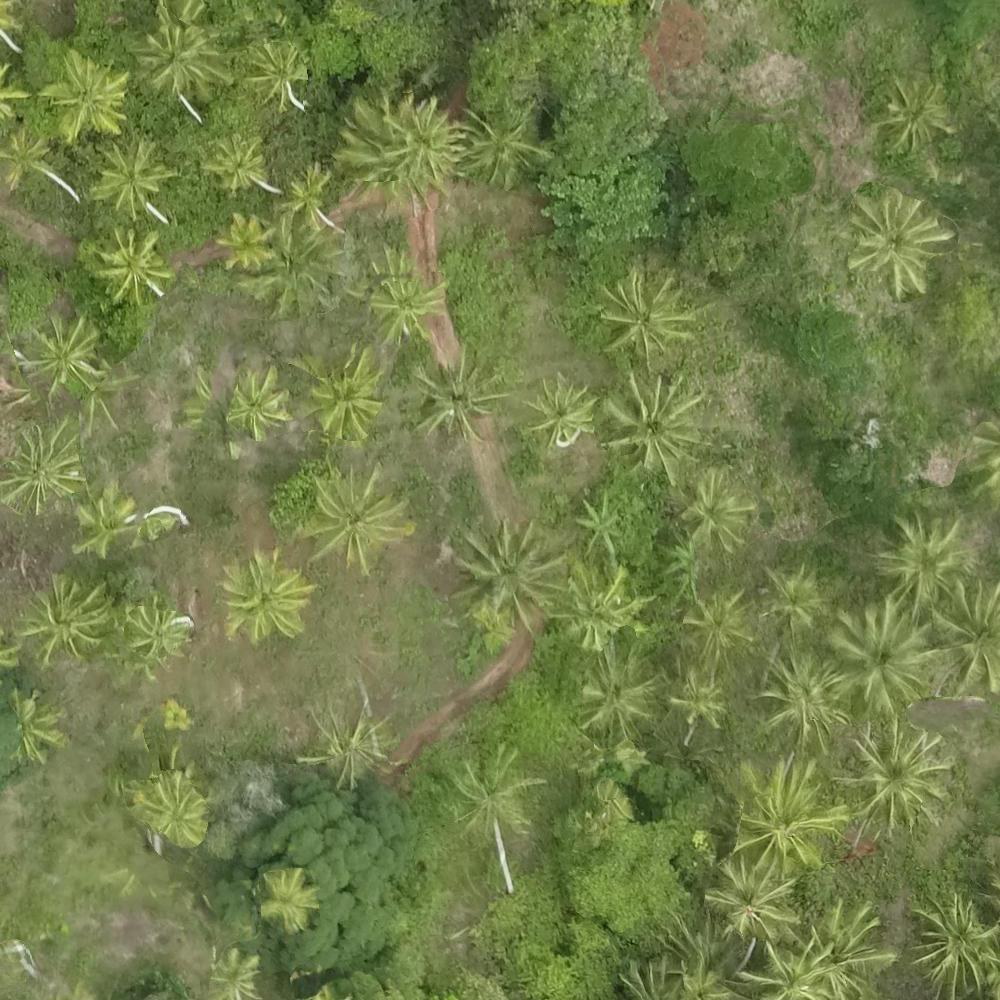Palm: (729, 756, 844, 868), (843, 719, 952, 828), (824, 604, 931, 712), (452, 517, 555, 625), (850, 188, 948, 294), (601, 371, 699, 474), (753, 649, 850, 746), (592, 269, 694, 361), (304, 474, 404, 565), (876, 511, 971, 604), (908, 898, 999, 995), (926, 582, 1000, 696), (703, 857, 799, 942), (21, 574, 113, 660), (449, 745, 541, 831), (19, 312, 103, 398), (40, 52, 122, 139), (418, 349, 500, 436), (224, 556, 307, 641), (1, 423, 79, 513), (381, 101, 462, 185), (132, 17, 220, 90), (561, 565, 642, 644), (465, 107, 543, 186), (305, 702, 384, 779), (310, 360, 381, 444), (364, 260, 437, 338), (581, 649, 652, 728), (877, 74, 955, 145), (687, 468, 755, 549), (95, 228, 166, 305), (137, 768, 207, 845), (524, 375, 598, 447), (752, 559, 826, 629), (93, 140, 165, 211), (245, 40, 310, 112), (682, 586, 750, 652), (129, 599, 198, 664), (668, 669, 733, 732), (228, 369, 291, 432), (254, 872, 322, 930), (204, 135, 272, 193), (78, 491, 135, 559), (219, 213, 280, 271), (207, 949, 263, 1000)
